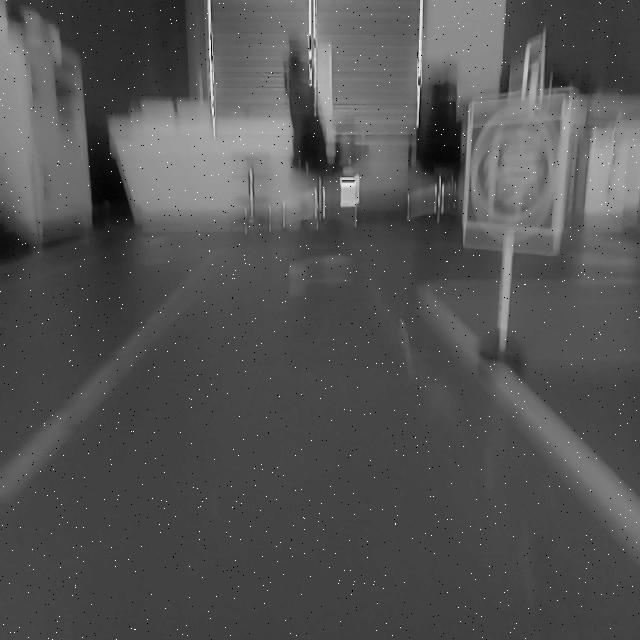left_lane: (0, 247, 219, 509)
right_lane: (421, 289, 638, 560)
